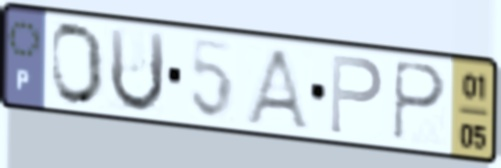5: (188, 34, 238, 124)
A: (241, 46, 314, 134)
O: (48, 19, 107, 109)
P: (327, 50, 385, 138), (391, 57, 449, 144)
U: (106, 24, 168, 116)
